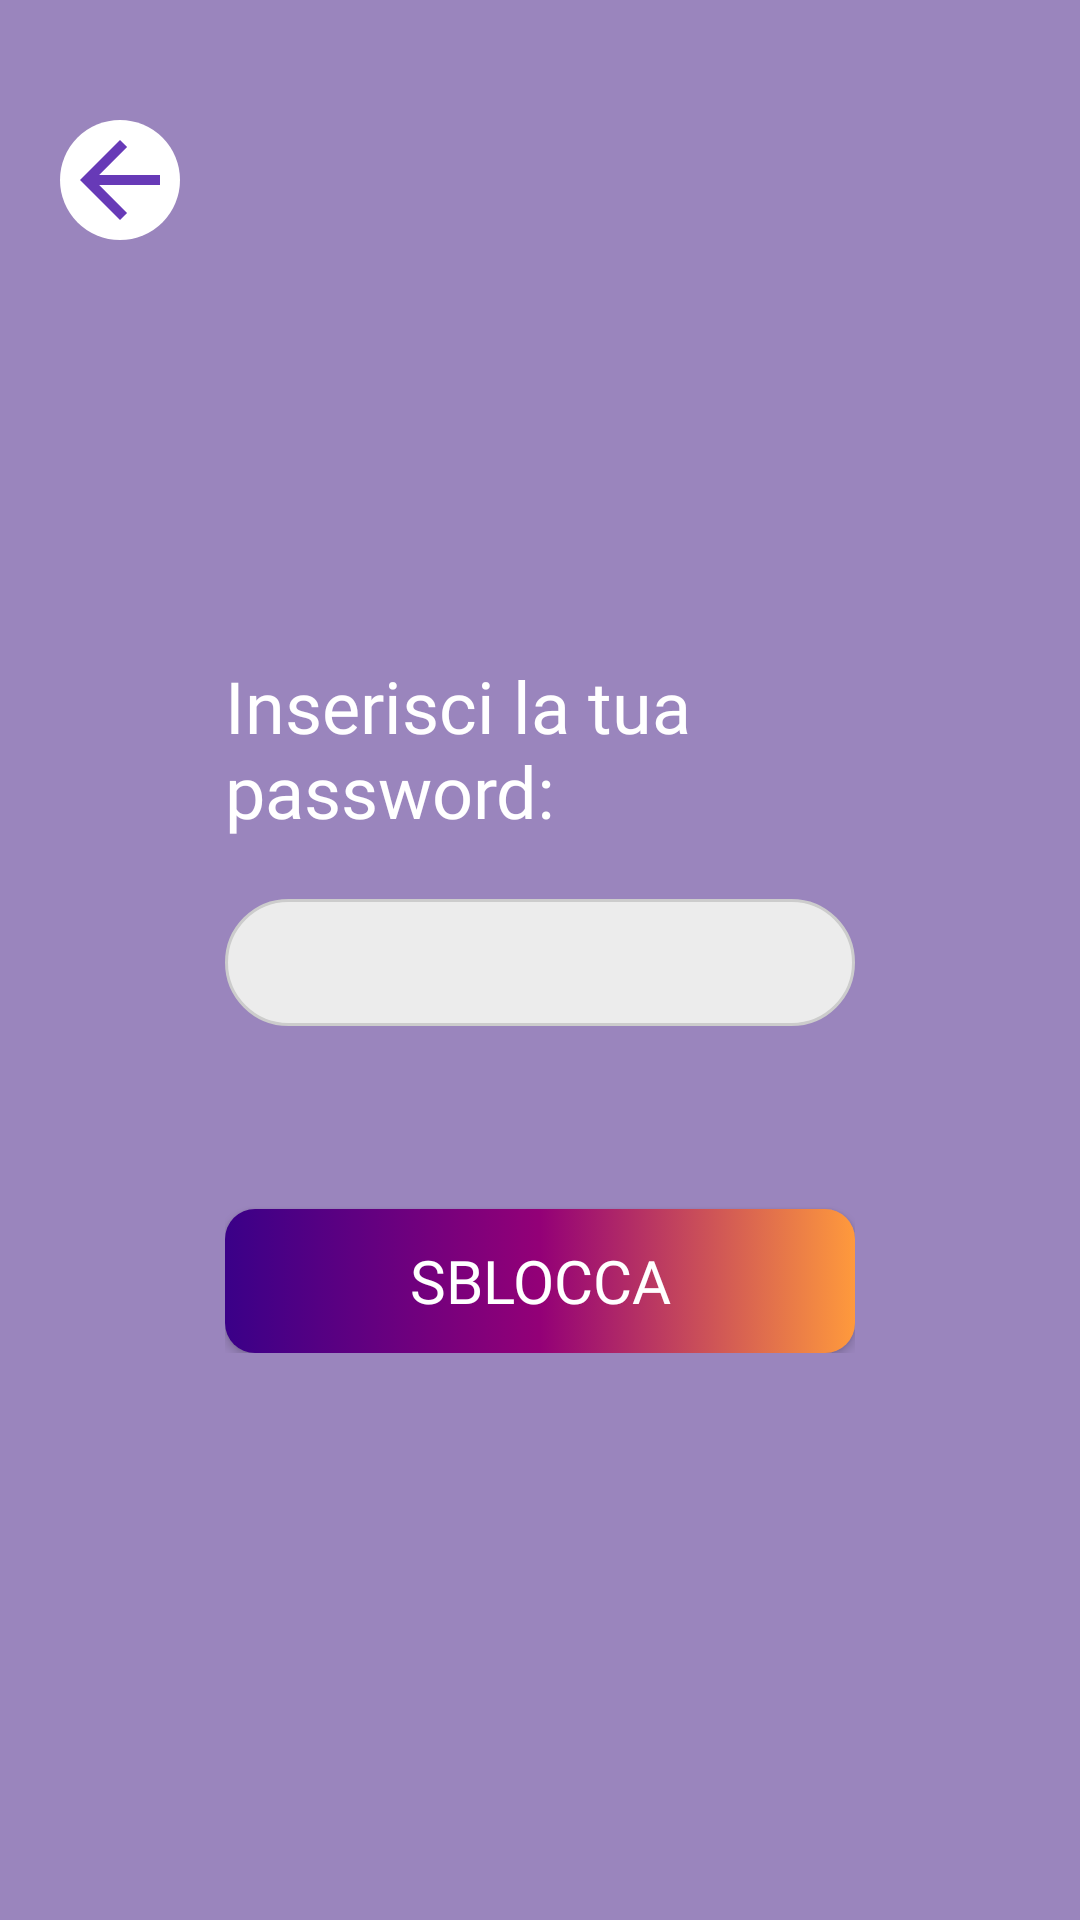

Icons on this 1080×1920 Android screen, each with the point to tap as point (x, y):
backarrow: point (120, 180)
